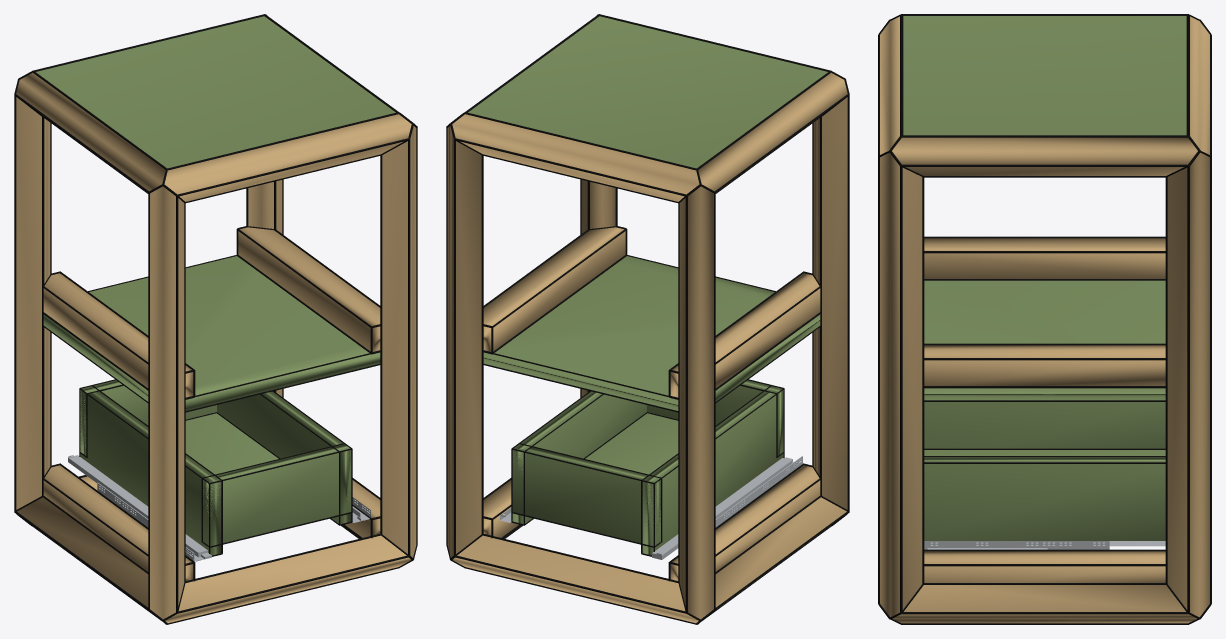
File: 001-table-chevet.glb
3 renders of one model, left to right at view 1: azimuth 30°, elevation 25°; view 2: azimuth 150°, elevation 25°; view 3: azimuth 270°, elevation 25°, orthographic. The views are drawn at different scales.
Parts seen in each view (by area): view 1: panneau-dessus_exterieur, tablette-plate-mod-0, arete-Z0, arete-Z1, arete-Z2, drawer-box-fond-mod-1, arete-X2, drawer-box-joue_g-mod-1, arete-X0, tablette-traverse-right-mod-0, tablette-traverse-left-mod-0, drawer-box-joue_d-mod-1 (+23 smaller); view 2: panneau-dessus_exterieur, tablette-plate-mod-0, arete-Z2, arete-Z3, arete-Z0, drawer-box-arriere-mod-1, arete-X3, arete-X1, drawer-box-joue_g-mod-1, tablette-traverse-right-mod-0, tablette-traverse-left-mod-0, arete-Y2 (+23 smaller); view 3: panneau-dessus_exterieur, drawer-box-joue_d-mod-1, tablette-plate-mod-0, arete-Z1, arete-Z3, drawer-box-joue_g-mod-1, arete-Y3, arete-Y1, tablette-traverse-left-mod-0, tablette-traverse-right-mod-0, drawer-tr-drawer-traverse-right-mod-1, arete-wire-Z1 (+16 smaller).
Part boxes in pixels (x1,y1,x2,y2): panneau-dessus_exterieur: (36, 16, 395, 168); tablette-plate-mod-0: (43, 256, 380, 410); arete-Z0: (150, 186, 184, 619); arete-Z1: (382, 126, 416, 557); arete-Z2: (16, 97, 50, 509); drawer-box-fond-mod-1: (203, 444, 351, 542); arete-X2: (164, 114, 411, 201); drawer-box-joue_g-mod-1: (80, 386, 221, 555); arete-X0: (165, 535, 410, 623); tablette-traverse-right-mod-0: (238, 227, 380, 351); tablette-traverse-left-mod-0: (43, 273, 193, 397); drawer-box-joue_d-mod-1: (217, 391, 351, 523); panneau-dessus_exterieur: (468, 16, 827, 168); tablette-plate-mod-0: (483, 256, 820, 410); arete-Z2: (679, 186, 713, 619); arete-Z3: (447, 126, 481, 557); arete-Z0: (813, 97, 847, 509); drawer-box-arriere-mod-1: (512, 447, 660, 542); arete-X3: (452, 114, 699, 201); arete-X1: (453, 535, 698, 623); drawer-box-joue_g-mod-1: (642, 386, 783, 555); tablette-traverse-right-mod-0: (483, 227, 625, 351); tablette-traverse-left-mod-0: (670, 273, 820, 397); arete-Y2: (698, 72, 847, 191); panneau-dessus_exterieur: (903, 16, 1186, 135); drawer-box-joue_d-mod-1: (924, 457, 1165, 540); tablette-plate-mod-0: (924, 280, 1165, 400); arete-Z1: (880, 152, 922, 617); arete-Z3: (1167, 152, 1209, 617); drawer-box-joue_g-mod-1: (924, 402, 1165, 448); arete-Y3: (892, 137, 1197, 175); arete-Y1: (892, 585, 1197, 623); tablette-traverse-left-mod-0: (924, 238, 1165, 278); tablette-traverse-right-mod-0: (924, 345, 1165, 385); drawer-tr-drawer-traverse-right-mod-1: (924, 551, 1165, 582); arete-wire-Z1: (878, 151, 924, 613).
Bounding box in the file's own units: 0.3238 × 0.5238 × 0.3238.
